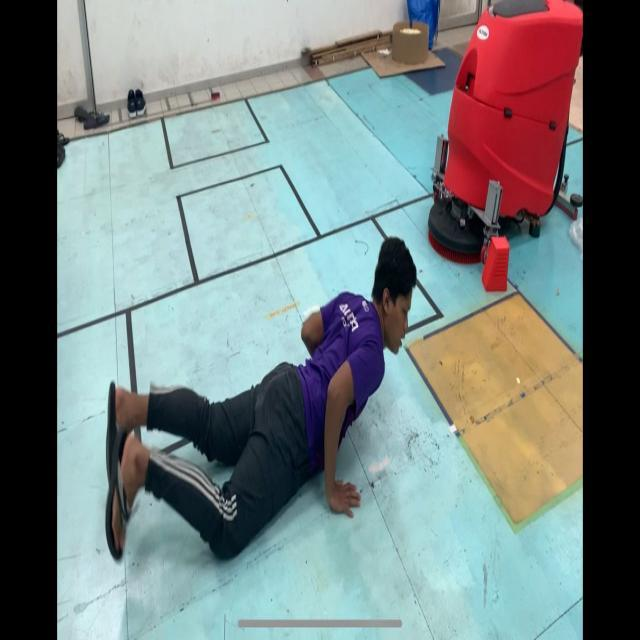fall: (102, 230, 422, 586)
